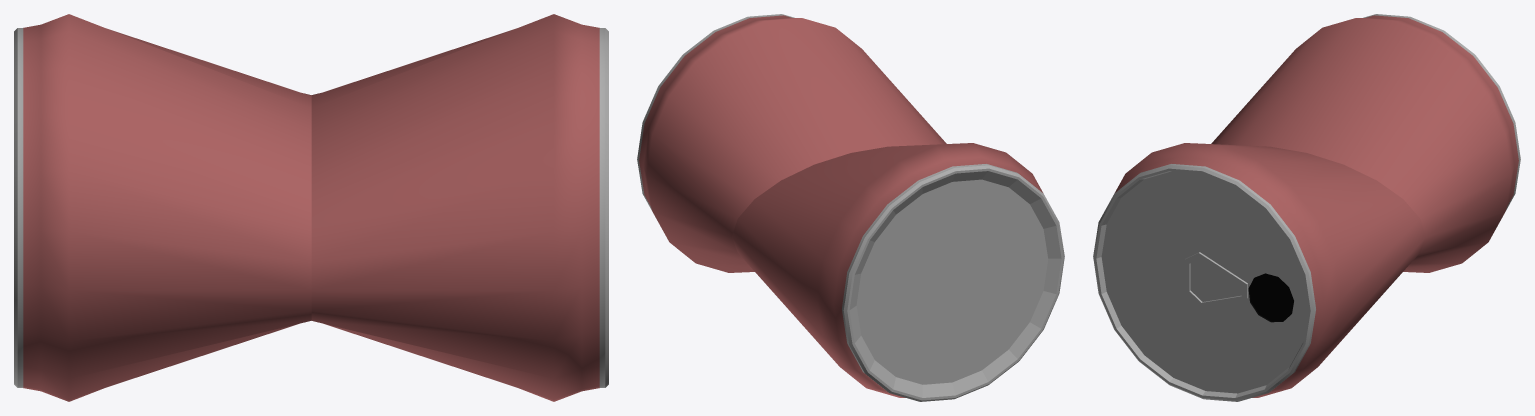
The model's file is Crushed Red can.fbx.
3 renders of one model, left to right at view 1: azimuth 30°, elevation 25°; view 2: azimuth 150°, elevation 25°; view 3: azimuth 270°, elevation 25°, orthographic. The views are drawn at different scales.
Visible parts, largest first — view 1: pCylinder14; view 2: pCylinder14; view 3: pCylinder14.
Boxes of the visible parts, x1,y1,x2,y2 form: pCylinder14: [14, 14, 608, 401]; pCylinder14: [637, 14, 1064, 401]; pCylinder14: [1093, 14, 1520, 401].
Size of the model in its own units: 0.4992 by 0.2817 by 0.4381.
